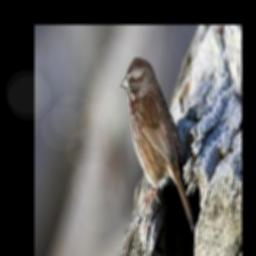Sparrow: (119, 55, 194, 235)
